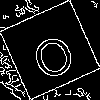O: (25, 24, 79, 82)
